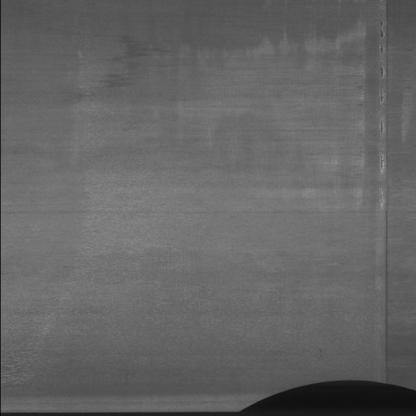welding_line: (369, 1, 398, 395)
